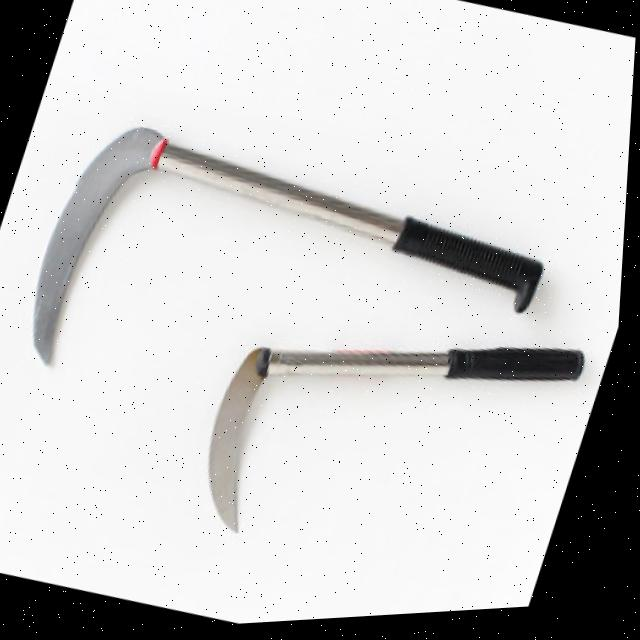sickle: (0, 43, 621, 517), (152, 256, 608, 632)
